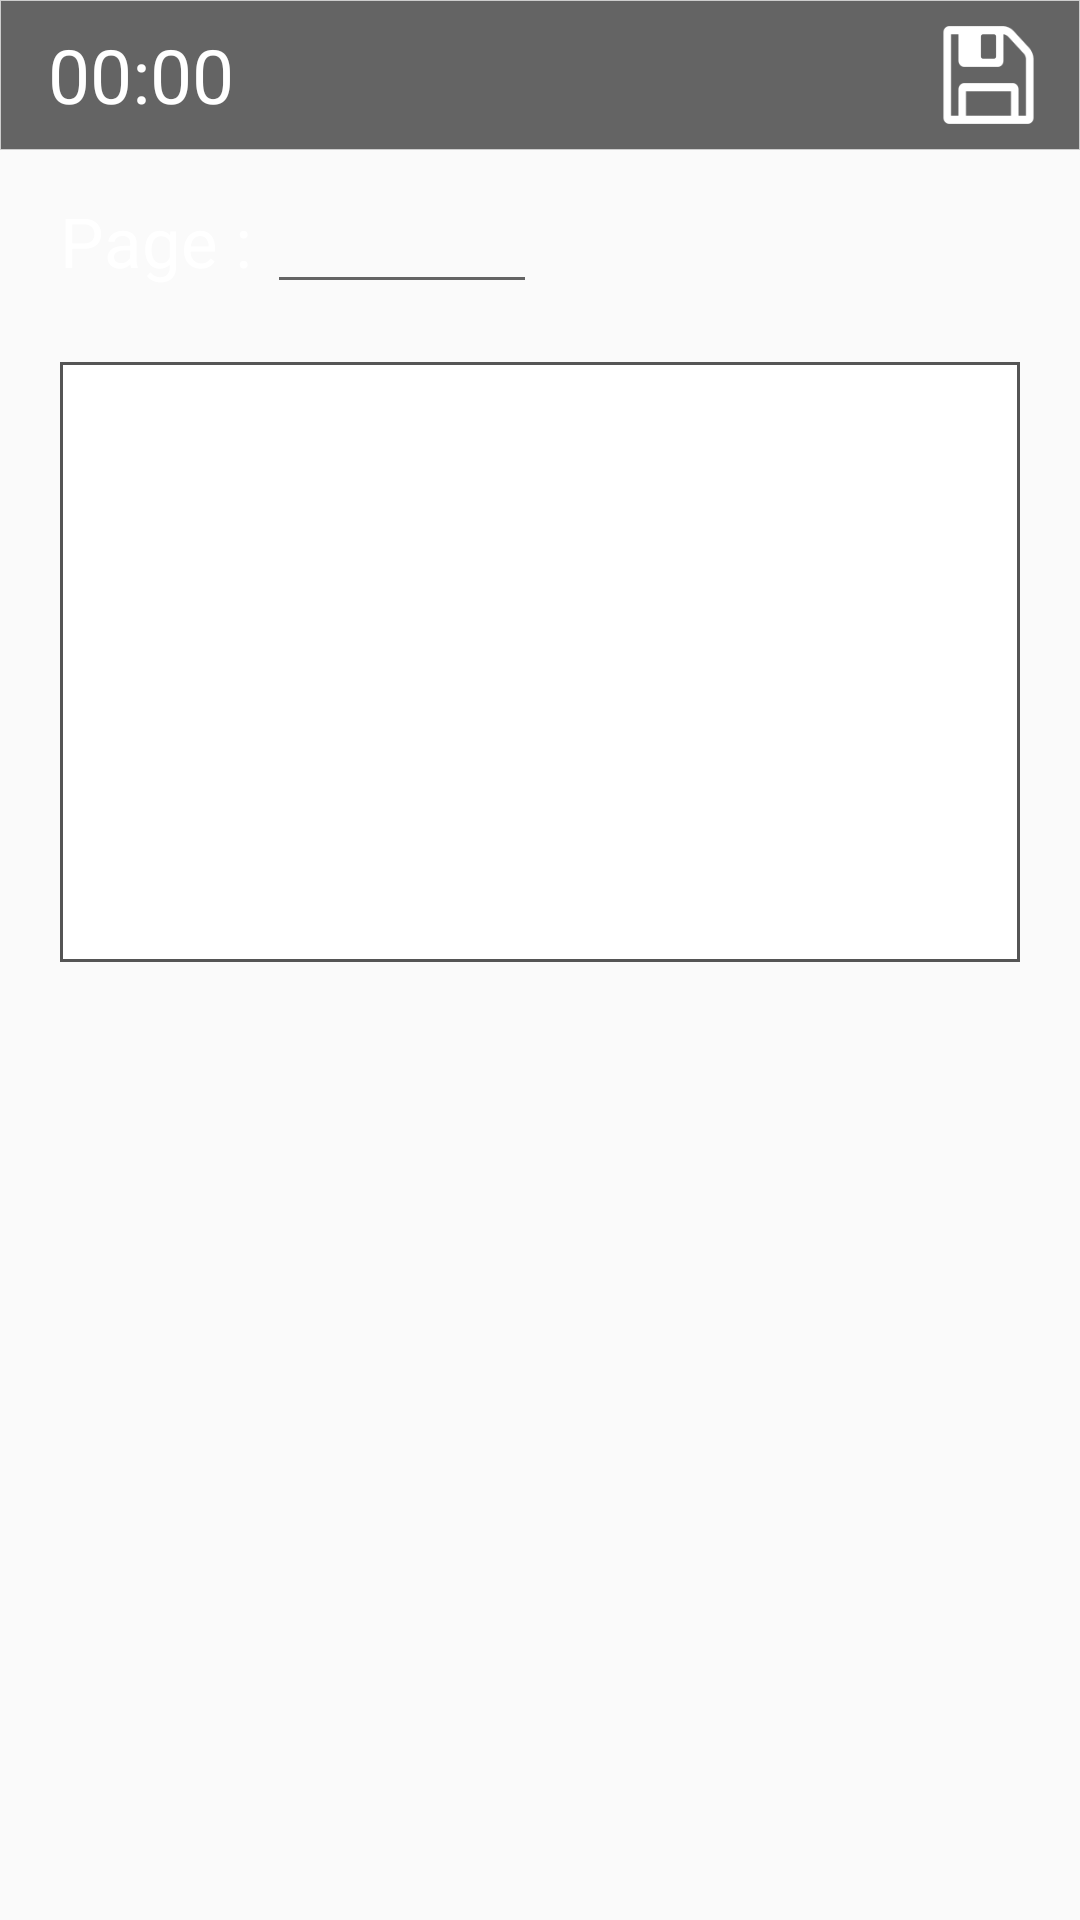

Named icons in this screenshot (1080×1920) and their centers, (x=x, y=y):
savebutton: (x=988, y=75)
